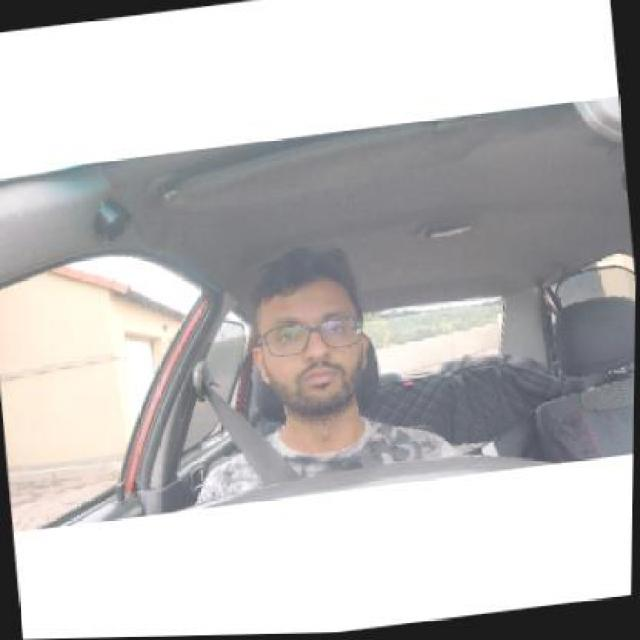person: (242, 251, 386, 421)
